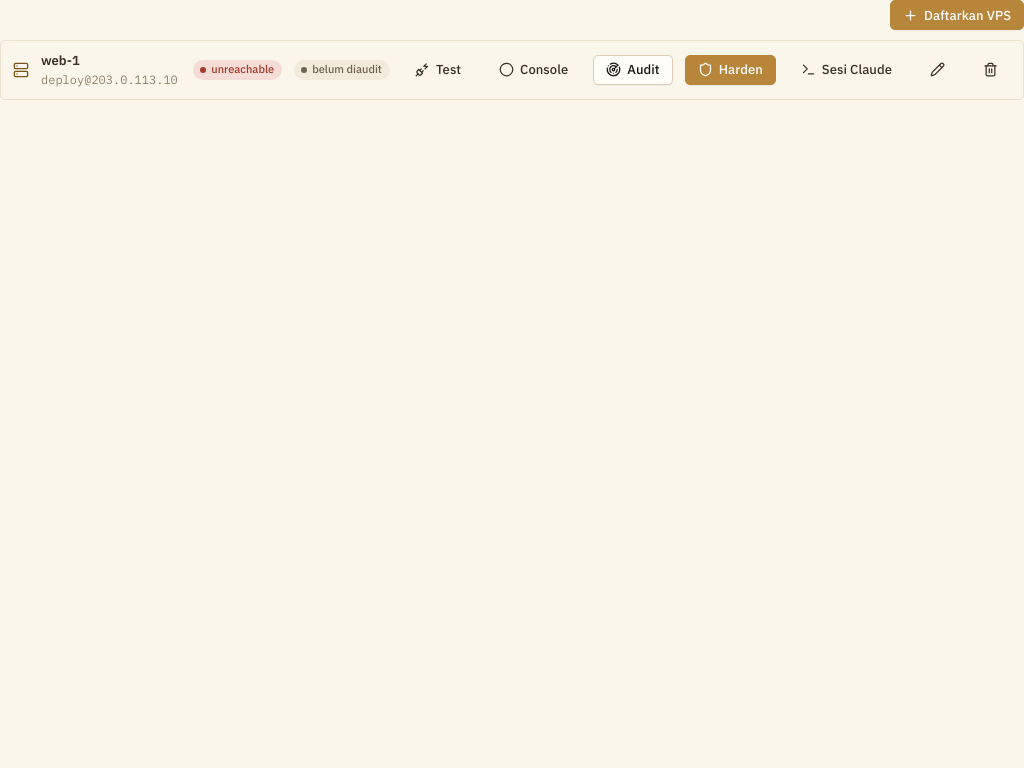
Scenario: VpsScreen (SPEC-164) › klik baris VPS membuka modal detail+checklist langsung (UI 2026-07-18)
The width and height of the screenshot is (1024, 768).
Click the text "web-1": click(60, 60) left=41, top=52, right=80, bottom=69
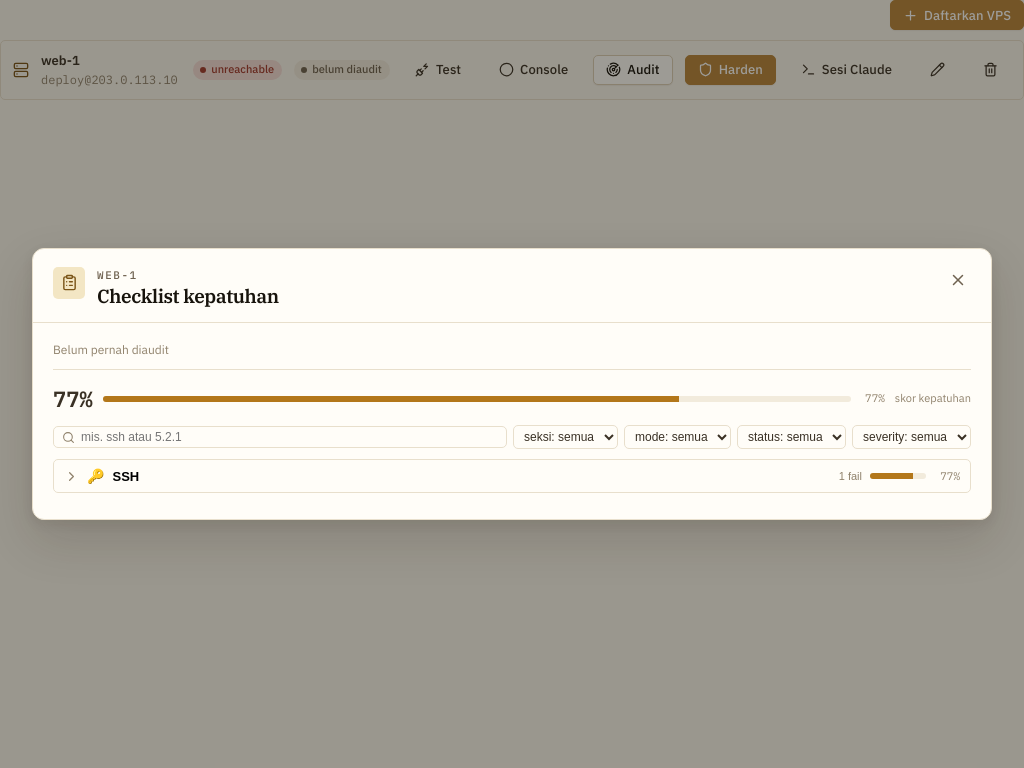
Expected: the text with test id "score-total" is shown, left=53, top=382, right=93, bottom=415
Expected: the text "Belum pernah diaudit" is shown, left=53, top=341, right=971, bottom=370
